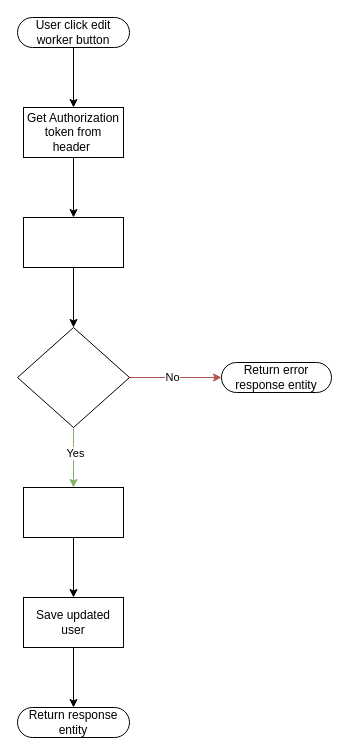
Some shapes in this 349 by 755 pixel diagram are drawn without their labels. Here are the shapes that lost their labels. From the top down, the centre of each, then its label:
At [73,242]: "Get User from token".
At [73,377]: "User is authorized to create new operation?".
At [73,512]: "Get user to edit from path variable from DB".
